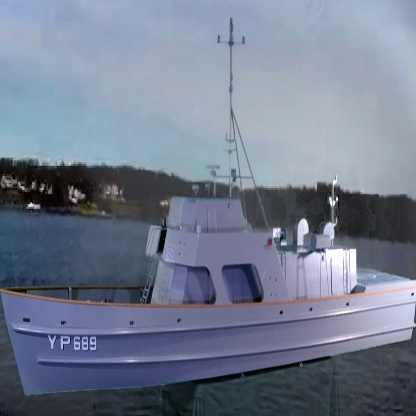YP689: (0, 15, 416, 401)
